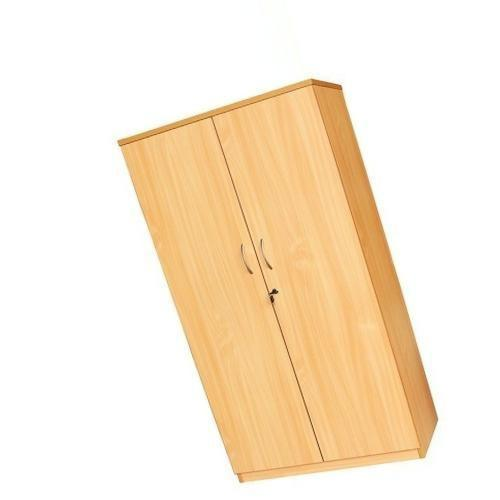Armario: (110, 79, 439, 483)
